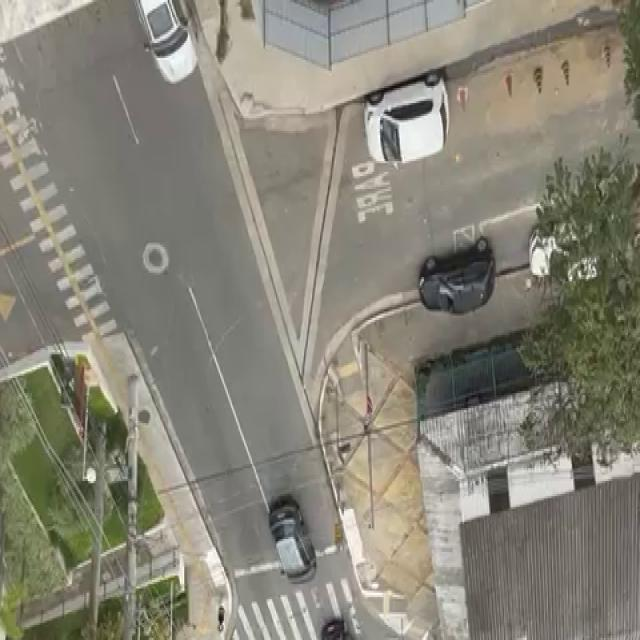car: (360, 68, 446, 170), (524, 218, 628, 289), (132, 0, 208, 87), (414, 243, 494, 319), (266, 506, 320, 584), (318, 617, 356, 640)
